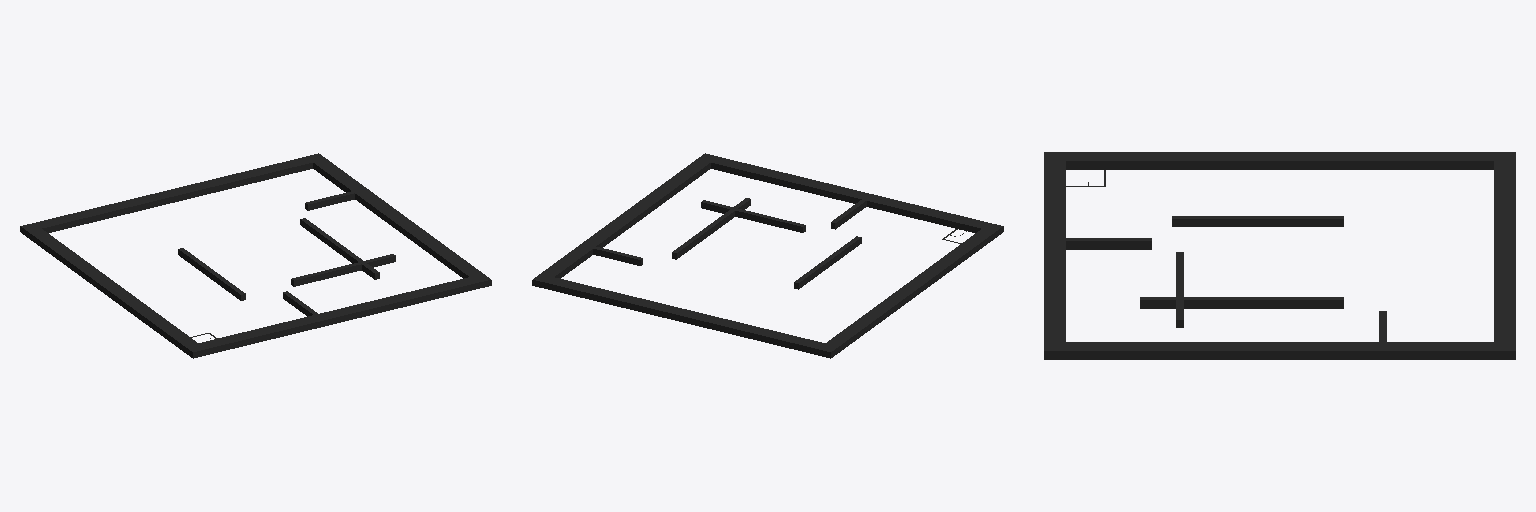
URDF robot description (Room14):
<robot name="Room14">
    <link name="_name">
        <visual> 
            <origin rpy="0.0 0.0 0.0" xyz="-0.5134186134601288 -0.48575653094583376 -0.009999999999999993" />
                <geometry>
                    <mesh filename="Room14/Room14.obj" scale="1 1 0.1" />
                </geometry>

            <material name="black">
                <color rgba="0.2 0.2 0.2 0.95" />
            </material>
        </visual>

       <collision concave="yes" name="collision_0">
            <origin rpy="0.0 0.0 0.0" xyz="-0.5134186134601288 -0.48575653094583376 -0.009999999999999993" />
            <geometry>
                <mesh filename="Room14/Room14_vhacd.obj" scale="1 1 0.1" />
            </geometry>
        </collision>

        <inertial> 
            <mass value="0" />
            <inertia ixx="0" ixy="0" ixz="0" iyy="0" iyz="0" izz="0" />
        </inertial> 
    </link>
</robot>

--- Render facts (derived) ---
Views: 3 orthographic renders of the robot side by side, from view 1: azimuth 30°, elevation 25°; view 2: azimuth 150°, elevation 25°; view 3: azimuth 270°, elevation 25°.
Model Room14 with 1 links and 0 joints (none), rooted at _name, posed every joint at zero.
Visible links, largest first — view 1: _name; view 2: _name; view 3: _name.
Boxes of the visible links, x1,y1,x2,y2 form: _name: (20,153,491,358); _name: (532,153,1003,358); _name: (1044,152,1515,359).
Bounding box of the posed robot: 1 × 1 × 0.02 m (x, y, z).
1 mesh visuals loaded from 1 distinct referenced files (1 OBJ).